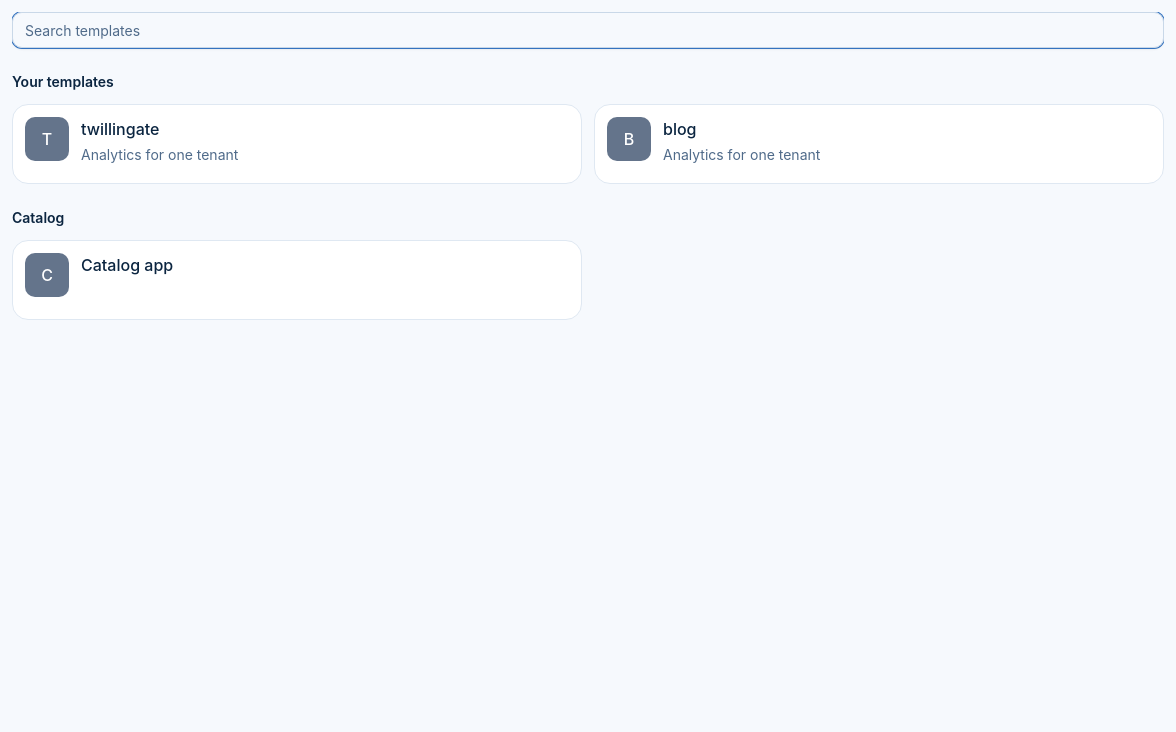
Test case: TemplateFlow › lists org templates before catalog templates, then opens the picked form
The width and height of the screenshot is (1176, 732).
Expected: the search field labelled "Search templates" is shown, x1=12 y1=12 x2=1164 y2=48
Expected: the button "C Catalog app" is shown, x1=12 y1=240 x2=582 y2=320
Click the button "B blog Analytics for one tenant" at (629, 139), box x1=594 y1=104 x2=1164 y2=184
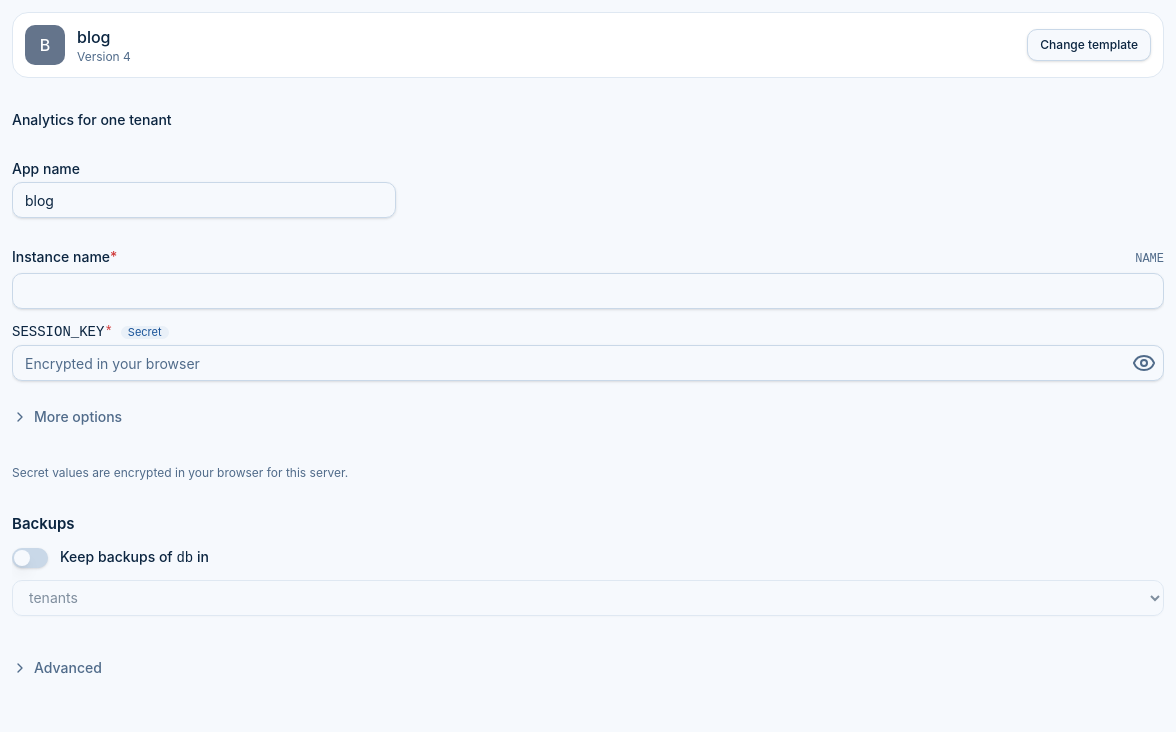
Expected: the field named "Instance name (NAME)" is shown, x1=12 y1=273 x2=1164 y2=309
